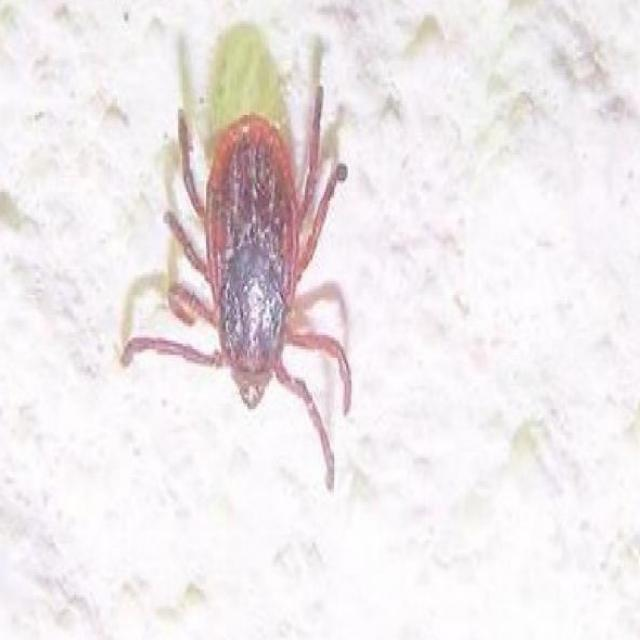Rhipicephalus Sanguineus-F: (119, 86, 350, 489)
